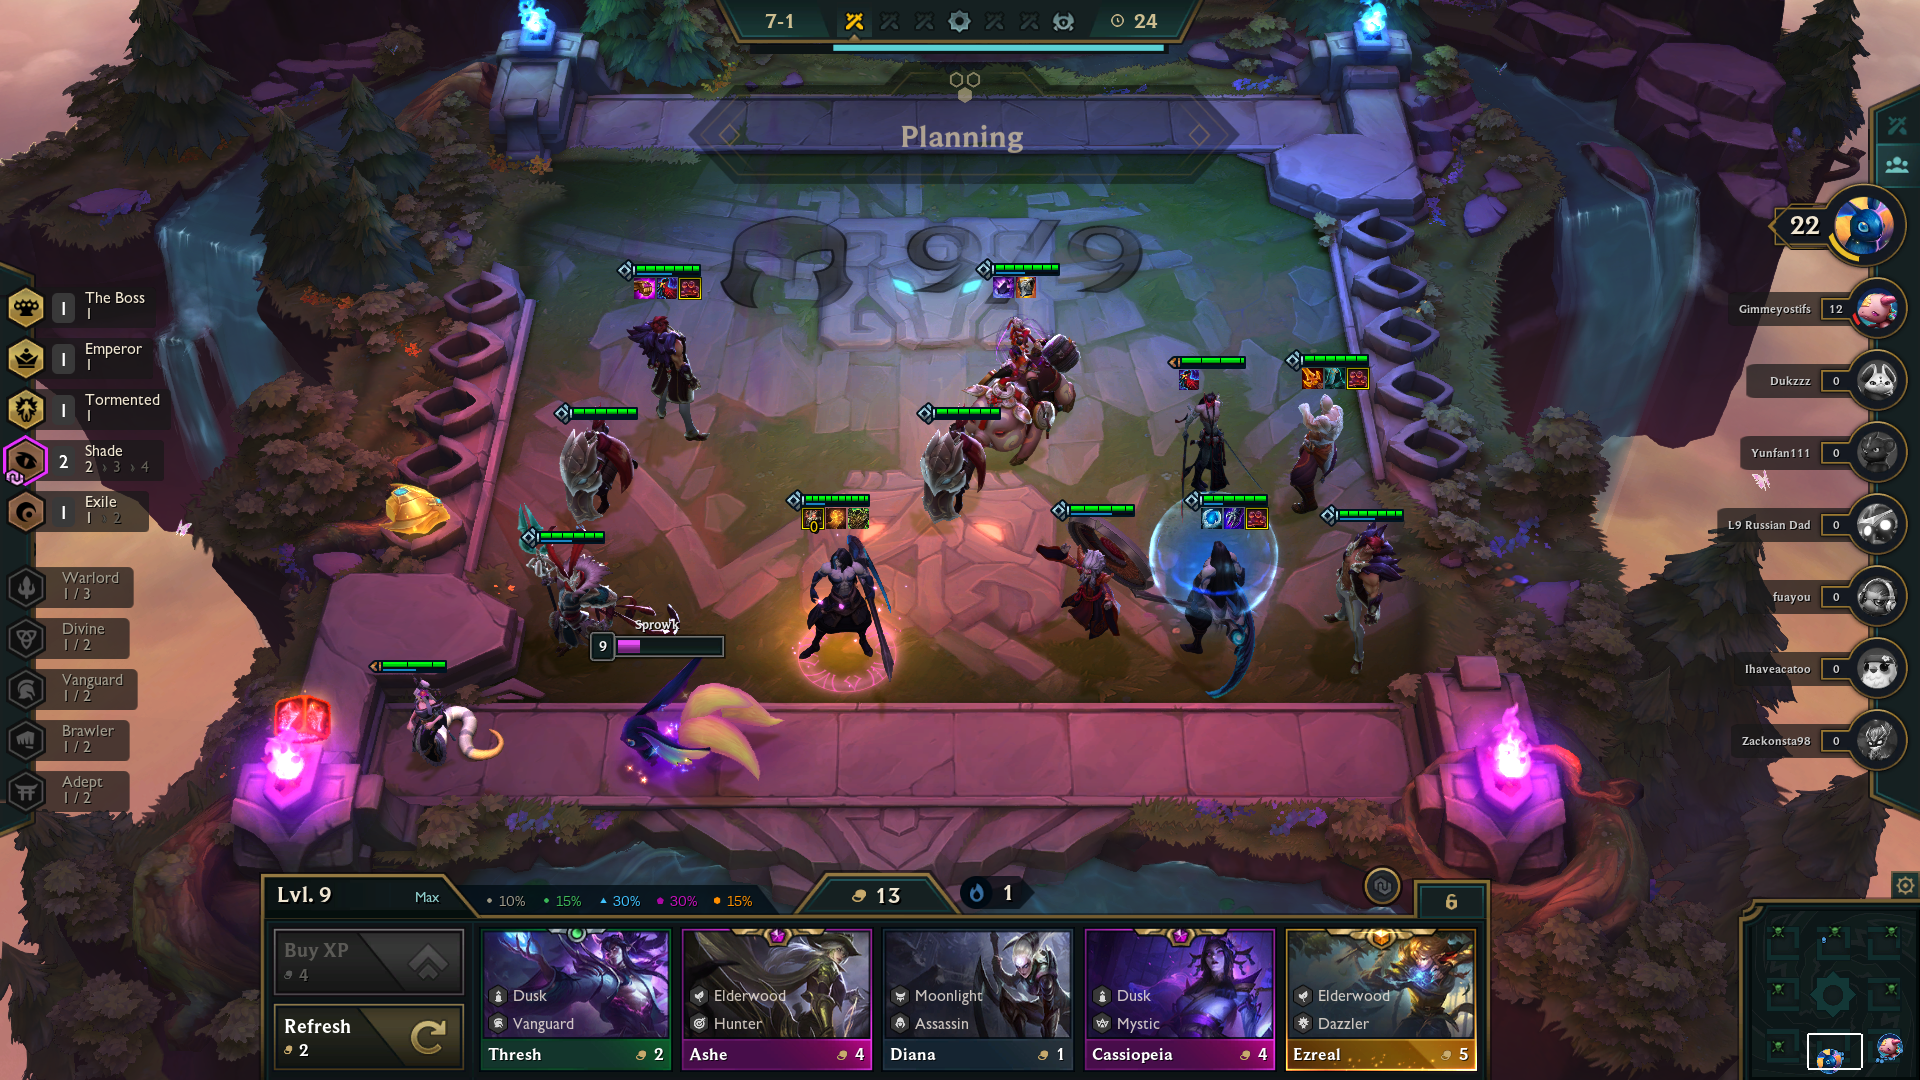1star_cassiopeia: (357, 649, 514, 787)
1star_yone: (1158, 330, 1267, 506)
2star_azir: (504, 480, 705, 680)
2star_azirsoldier: (542, 396, 658, 535), (899, 397, 1013, 534)
2star_kayn: (771, 479, 911, 702)
2star_kayn_blue: (1151, 479, 1286, 705)
2star_kayn_blue_chosen: (770, 477, 909, 699)
2star_leesin: (1271, 342, 1393, 525)
2star_sejuani: (942, 245, 1095, 485)
2star_sett: (1294, 492, 1423, 695), (616, 244, 735, 459)
2star_zilean: (1018, 492, 1166, 655)
item_deathblade: (1298, 361, 1329, 394)
item_gargoyle: (1011, 270, 1043, 301)
item_hoj: (827, 502, 851, 530)
item_jeweledgauntlet: (632, 274, 661, 305)
item_quicksilver: (1321, 361, 1353, 394)
item_shroud: (653, 272, 684, 305), (1175, 363, 1207, 396)
item_thief: (674, 272, 709, 306), (1241, 498, 1276, 533), (1341, 363, 1375, 397)
item_titan: (796, 501, 831, 534)
item_warmogs: (844, 500, 876, 534)
item_zzrot: (989, 270, 1019, 305)
trait_adept1: (1, 761, 183, 818)
trait_brawler1: (1, 709, 183, 767)
trait_divine1: (1, 607, 183, 665)
trait_emperor1: (1, 327, 183, 384)
trait_exile1: (1, 483, 183, 541)
trait_shade2: (1, 430, 183, 487)
trait_shade_chosen: (3, 433, 55, 491)
trait_theboss1: (1, 280, 183, 338)
trait_tormented1: (1, 378, 183, 436)
trait_vanguard1: (1, 657, 183, 713)
trait_warlord1: (1, 559, 183, 616)
